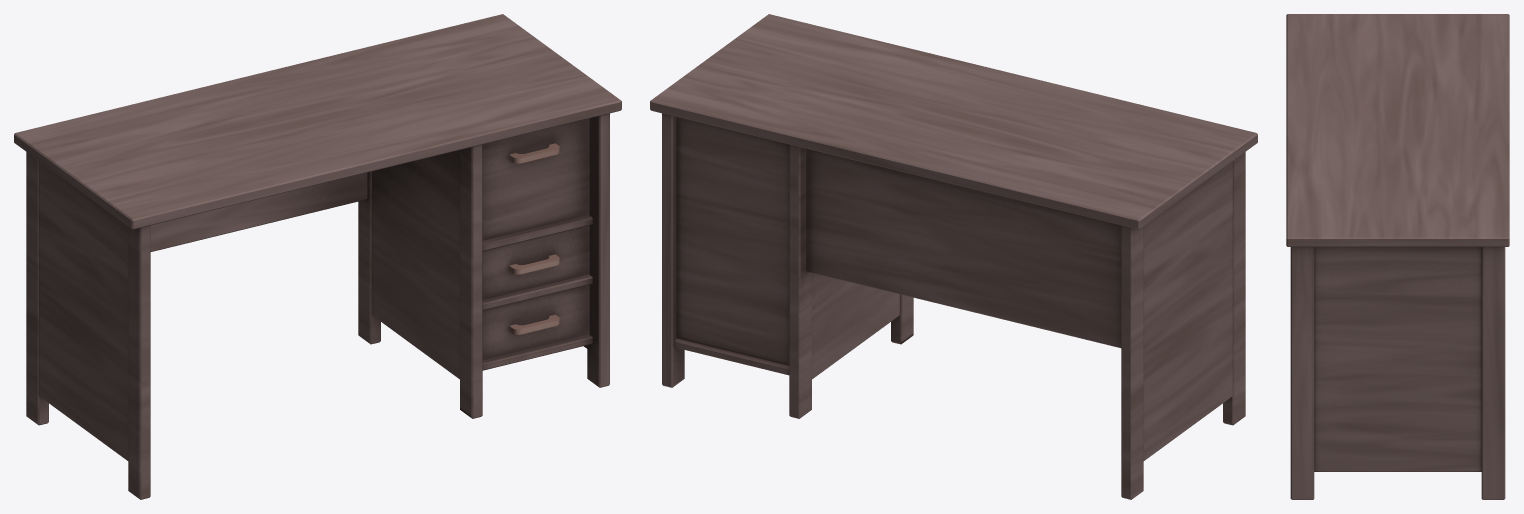
The model's file is employee desk (textured).fbx.
The picture shows the model from 3 angles, left to right: view 1: azimuth 30°, elevation 25°; view 2: azimuth 150°, elevation 25°; view 3: azimuth 270°, elevation 25°; orthographic projection. The views are drawn at different scales.
Parts seen in each view (by area): view 1: Cube, Cube.003; view 2: Cube; view 3: Cube.
Boxes of the visible parts, <box> form: Cube: <box>14,14,621,499</box>; Cube.003: <box>482,118,589,240</box>; Cube: <box>650,14,1257,499</box>; Cube: <box>1286,14,1509,499</box>.
Size of the model in its own units: 408 by 226 by 172.
2 materials, 2 textured.
